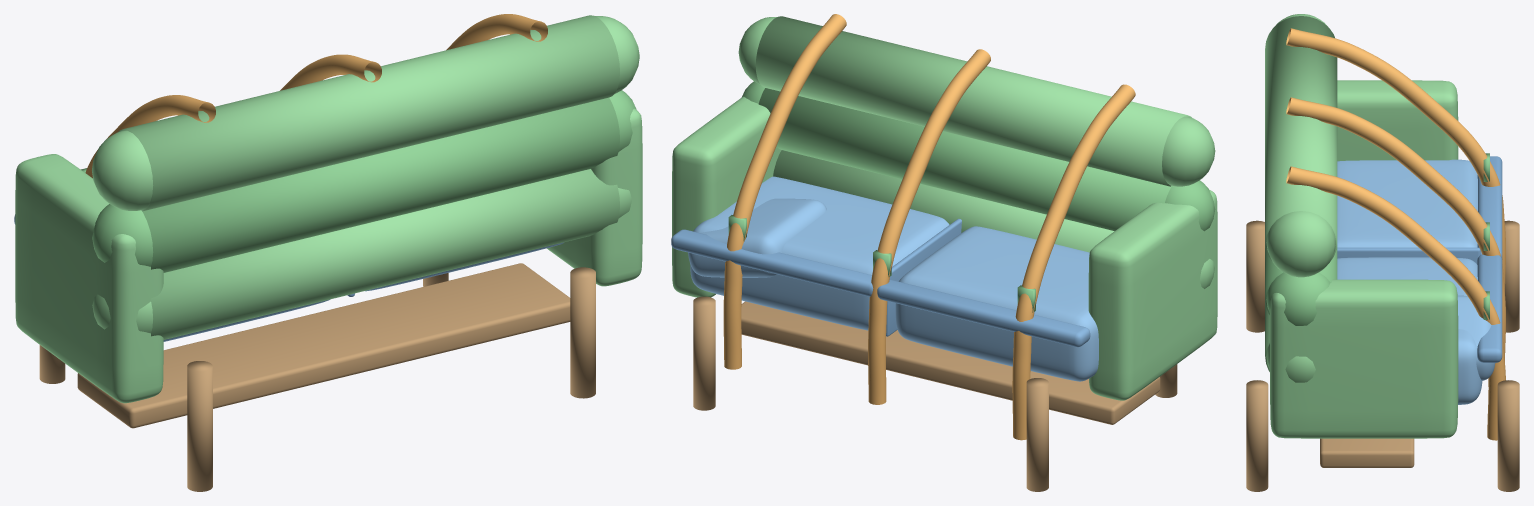
Rendered from green-couch-v2.glb.
3 renders of one model, left to right at view 1: azimuth 30°, elevation 25°; view 2: azimuth 150°, elevation 25°; view 3: azimuth 270°, elevation 25°, orthographic. The views are drawn at different scales.
Parts seen in each view (by area): view 1: back_tube_2, back_tube_1, back_tube_0, base_rail, side_-0.75, side_0.75, back_tube_2_cap_-0.73, leg_0.6_-0.4, leg_-0.6_-0.4, back_tube_1_cap_-0.73, strap_0, strap_2 (+5 smaller); view 2: back_tube_2, side_-0.75, back_tube_1, seat_0, seat_1, base_rail, side_0.75, back_tube_0, strap_1, strap_2, strap_0, seat_front_0 (+8 smaller); view 3: side_0.75, back_tube_2, seat_0, side_-0.75, strap_2, strap_1, strap_0, seat_1, back_tube_2_cap_0.73, base_rail, leg_0.6_-0.4, leg_0.6_0.4 (+9 smaller).
Part boxes in pixels (<box>): back_tube_2: <box>118,15,619,211</box>; back_tube_1: <box>142,97,619,272</box>; back_tube_0: <box>151,169,619,339</box>; base_rail: <box>77,263,570,428</box>; side_-0.75: <box>15,154,163,403</box>; side_0.75: <box>547,108,642,286</box>; back_tube_2_cap_-0.73: <box>92,130,153,210</box>; leg_0.6_-0.4: <box>570,267,595,398</box>; leg_-0.6_-0.4: <box>187,361,212,491</box>; back_tube_1_cap_-0.73: <box>92,204,153,266</box>; strap_0: <box>85,95,215,178</box>; strap_2: <box>446,14,547,50</box>; back_tube_2: <box>755,16,1191,186</box>; side_-0.75: <box>1088,190,1217,400</box>; back_tube_1: <box>758,88,1171,230</box>; seat_0: <box>895,226,1098,381</box>; seat_1: <box>690,176,949,330</box>; base_rail: <box>741,301,1160,424</box>; side_0.75: <box>672,96,781,297</box>; back_tube_0: <box>773,150,1114,252</box>; strap_1: <box>868,49,990,404</box>; strap_2: <box>723,14,846,369</box>; strap_0: <box>1012,84,1135,440</box>; seat_front_0: <box>877,279,1090,347</box>; side_0.75: <box>1270,279,1458,438</box>; back_tube_2: <box>1265,16,1337,261</box>; seat_0: <box>1337,159,1477,247</box>; side_-0.75: <box>1337,80,1458,161</box>; strap_2: <box>1286,166,1505,440</box>; strap_1: <box>1286,97,1505,360</box>; strap_0: <box>1286,28,1505,291</box>; seat_1: <box>1337,257,1482,404</box>; back_tube_2_cap_0.73: <box>1266,211,1335,277</box>; base_rail: <box>1320,438,1414,467</box>; leg_0.6_-0.4: <box>1246,380,1268,491</box>; leg_0.6_0.4: <box>1497,380,1519,491</box>.
Bounding box in the file's own units: 1.68 × 1.09 × 0.87.
